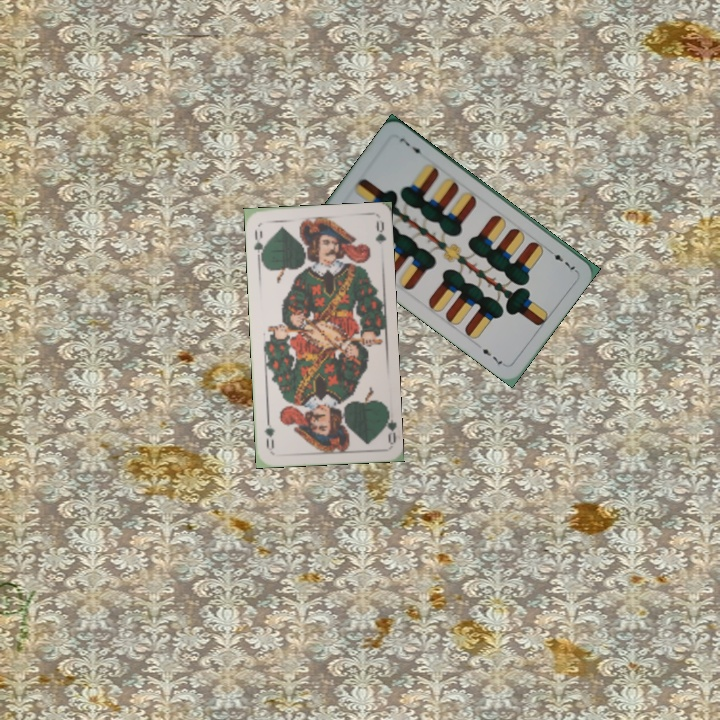E7: (544, 245, 579, 274)
GO: (378, 405, 398, 446), (250, 225, 268, 263)
